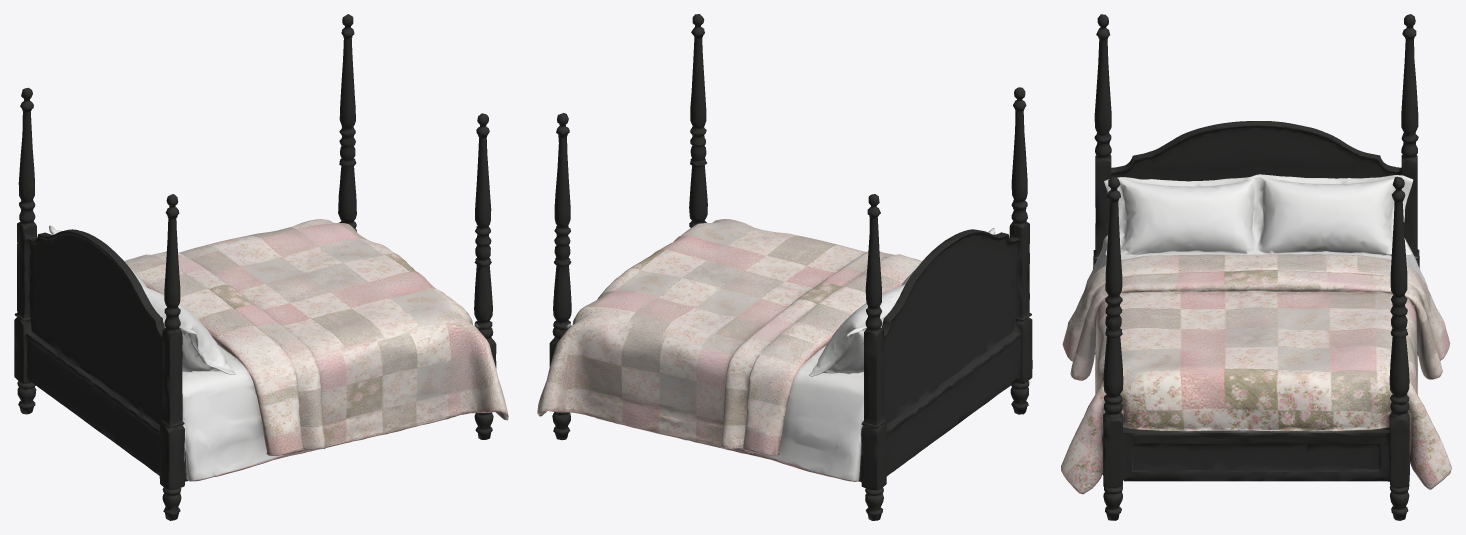
File: four-poster-bed.glb
3 views of the same model, side by side, from view 1: azimuth 30°, elevation 25°; view 2: azimuth 150°, elevation 25°; view 3: azimuth 270°, elevation 25° (orthographic). The views are drawn at different scales.
Visible parts, largest first — view 1: tripo_node_47243ed6-cdbe-4c55-89a6-4583d5e1c8cb; view 2: tripo_node_47243ed6-cdbe-4c55-89a6-4583d5e1c8cb; view 3: tripo_node_47243ed6-cdbe-4c55-89a6-4583d5e1c8cb.
Boxes of the visible parts, left/top/right/bottom form: tripo_node_47243ed6-cdbe-4c55-89a6-4583d5e1c8cb: left=14, top=14, right=508, bottom=520; tripo_node_47243ed6-cdbe-4c55-89a6-4583d5e1c8cb: left=537, top=14, right=1032, bottom=520; tripo_node_47243ed6-cdbe-4c55-89a6-4583d5e1c8cb: left=1061, top=14, right=1451, bottom=520.
Bounding box in the file's own units: 1.62 × 1.5 × 1.56.
1 material, 1 textured.
